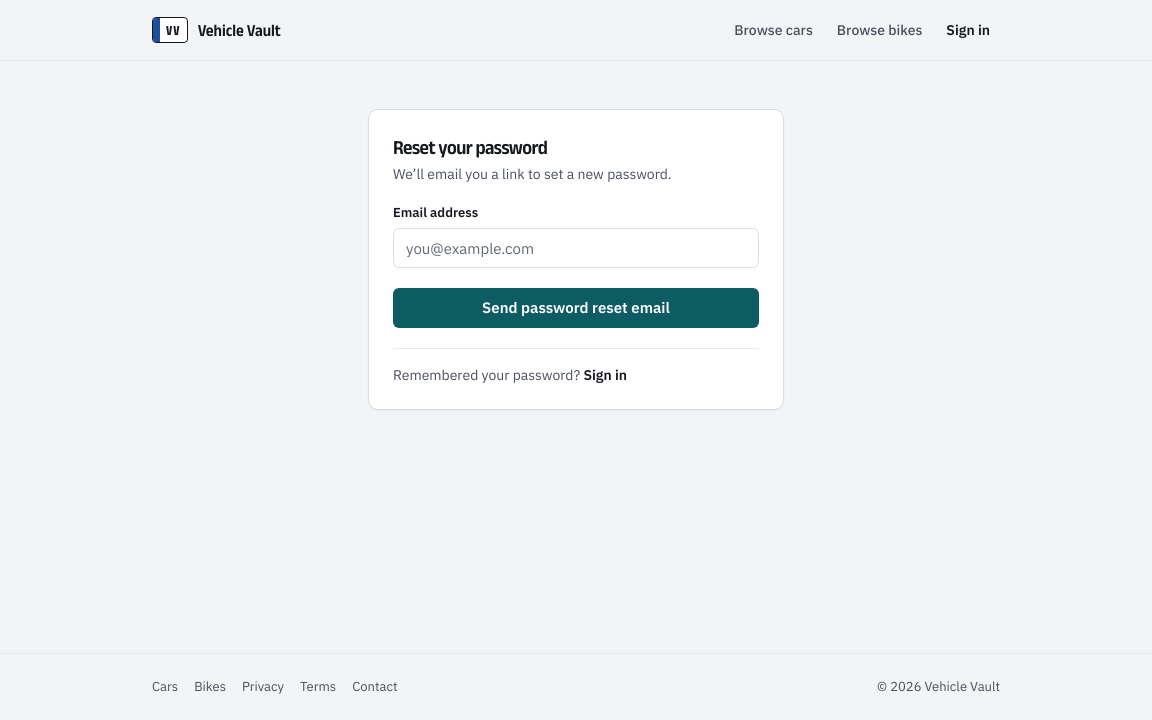
Test: ForgotPasswordPage › says reset by email is unavailable when the server cannot send mail
In the field labelled "Email address": [576, 248] box [393,228,759,268], type "asha@example.test"
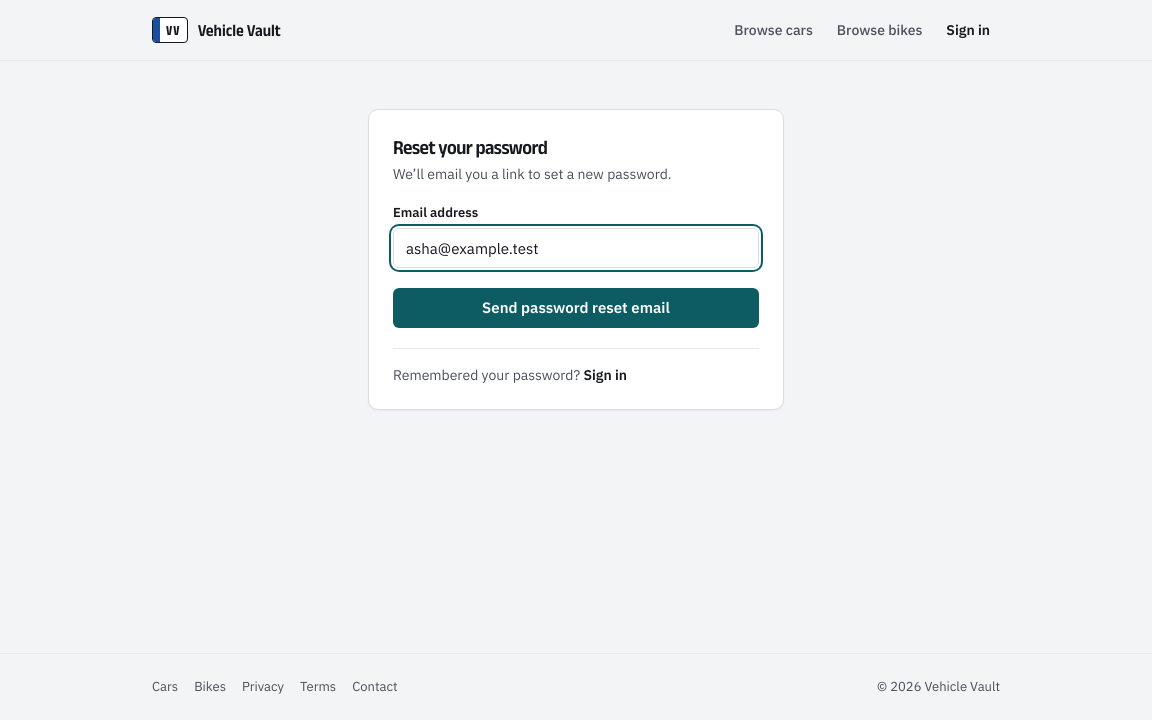
Click the button "Send password reset email": [576, 308] box [393,288,759,328]
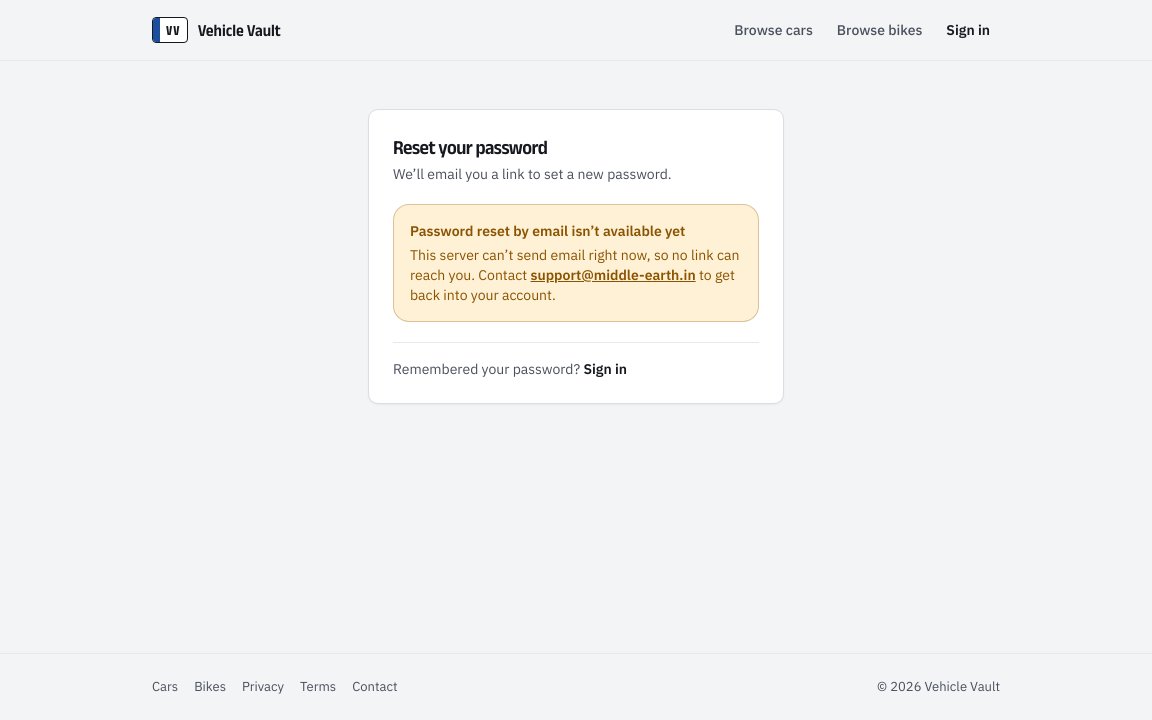
Check: the text "Password reset by email isn’t available yet" is shown, box [410,222,685,240]
Check: the field "Check your email" is gone
